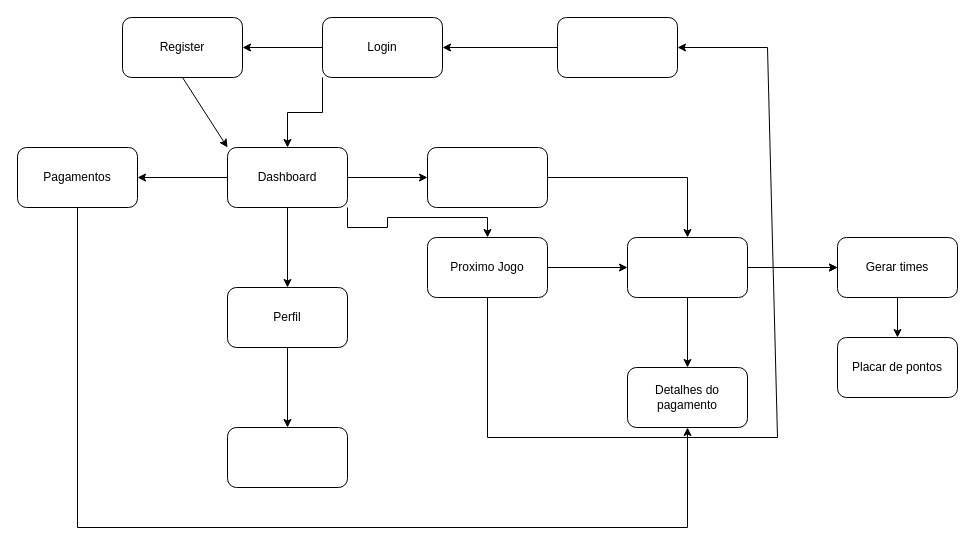
The diagram is 975 pixels wide and 553 high, and some of its shapes have lost their labels. Here are the shapes that lost their labels. From the top down, the centre of each, then its label:
the point at 617,47: Entrar no proximo jogo
the point at 487,177: Historico de jogos
the point at 687,267: Detalhes do jogo
the point at 287,457: Skill badges
